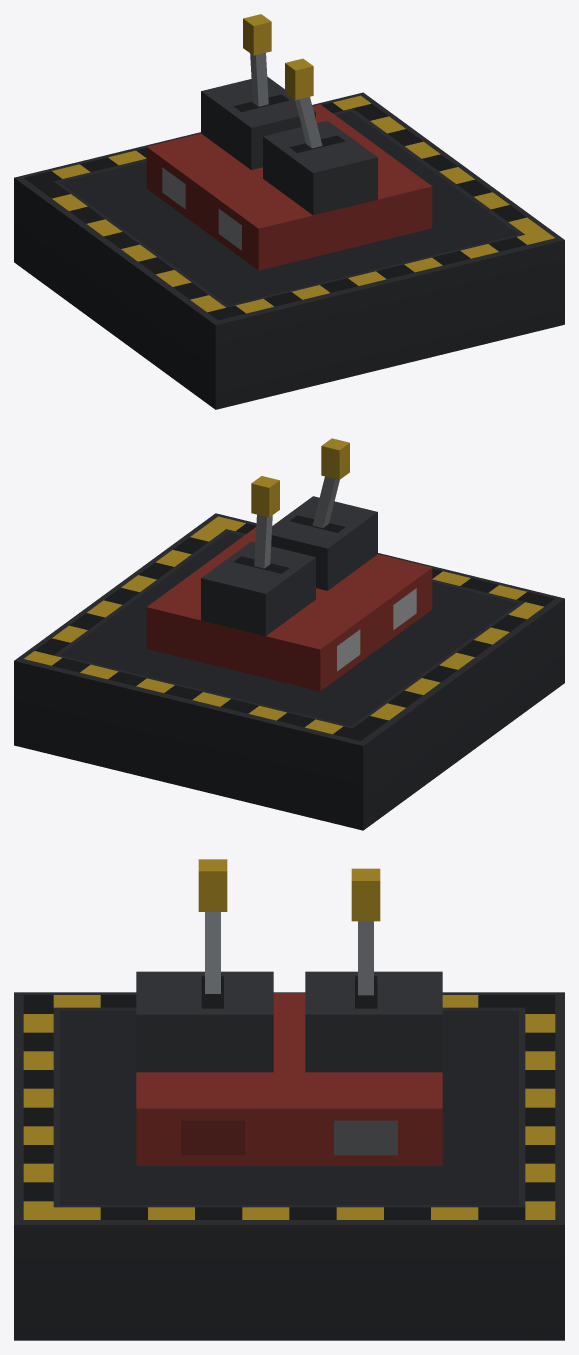
The model's file is machine.lever.red.glb.
The picture shows the model from 3 angles, top to bottom: view 1: azimuth 30°, elevation 25°; view 2: azimuth 150°, elevation 25°; view 3: azimuth 270°, elevation 25°; orthographic projection. The views are drawn at different scales.
Parts seen in each view (by area): view 1: machine_lever_red; view 2: machine_lever_red; view 3: machine_lever_red.
Boxes of the visible parts, x1=… form: machine_lever_red: x1=14, y1=14, x2=564, y2=409; machine_lever_red: x1=14, y1=438, x2=564, y2=830; machine_lever_red: x1=14, y1=859, x2=564, y2=1340.
Size of what is drawn, in the model's own units: 1.73 by 1.2 by 1.73.
